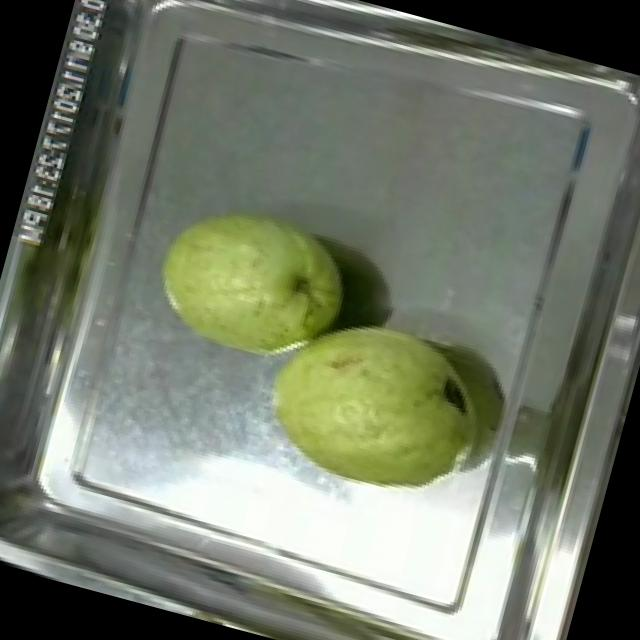Fruit: (242, 285, 508, 520), (134, 182, 370, 386)
